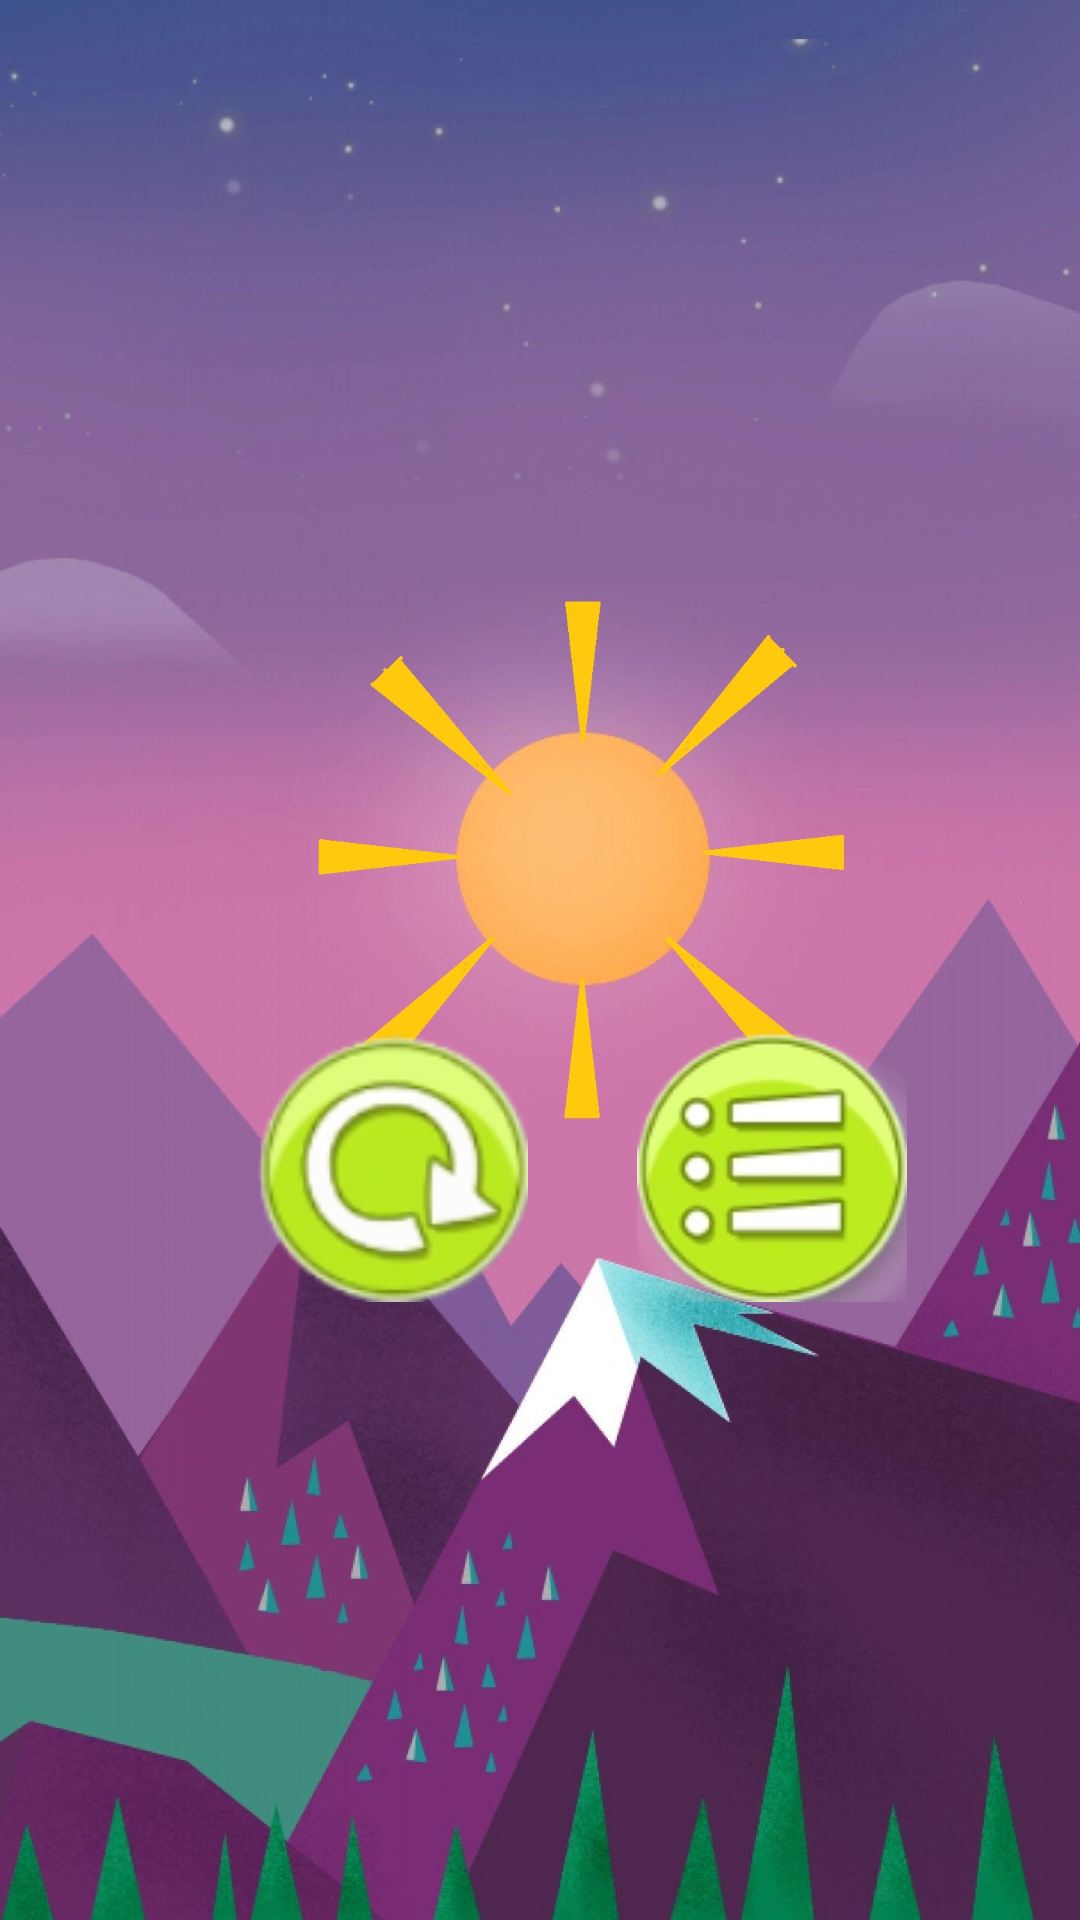

Where to tap for icons on this 1080px x 1920px app screen, as (x=x, y=y):
menu: (x=772, y=1167)
restart: (x=393, y=1167)
